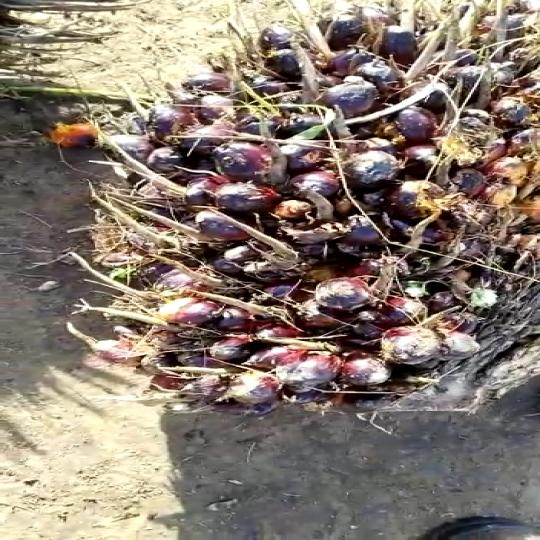kurang masak: (76, 0, 540, 412)
